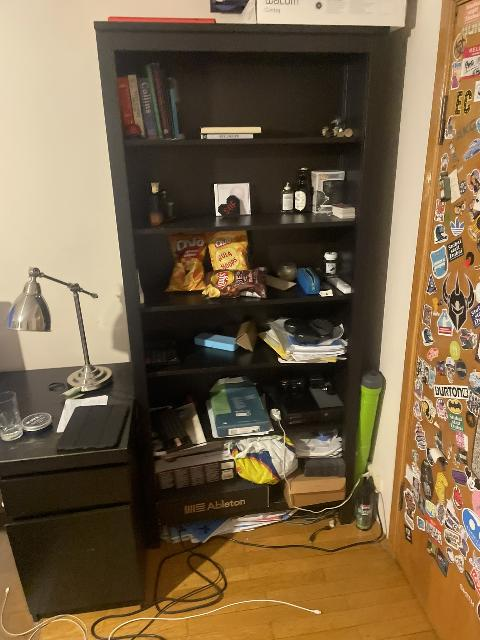Chio Cascaval 125g: (164, 233, 209, 293)
Chio Hula Hoops Cheese 70g: (207, 231, 252, 271)
Lays Beef Grilled Ribs 125g: (203, 268, 269, 299)
